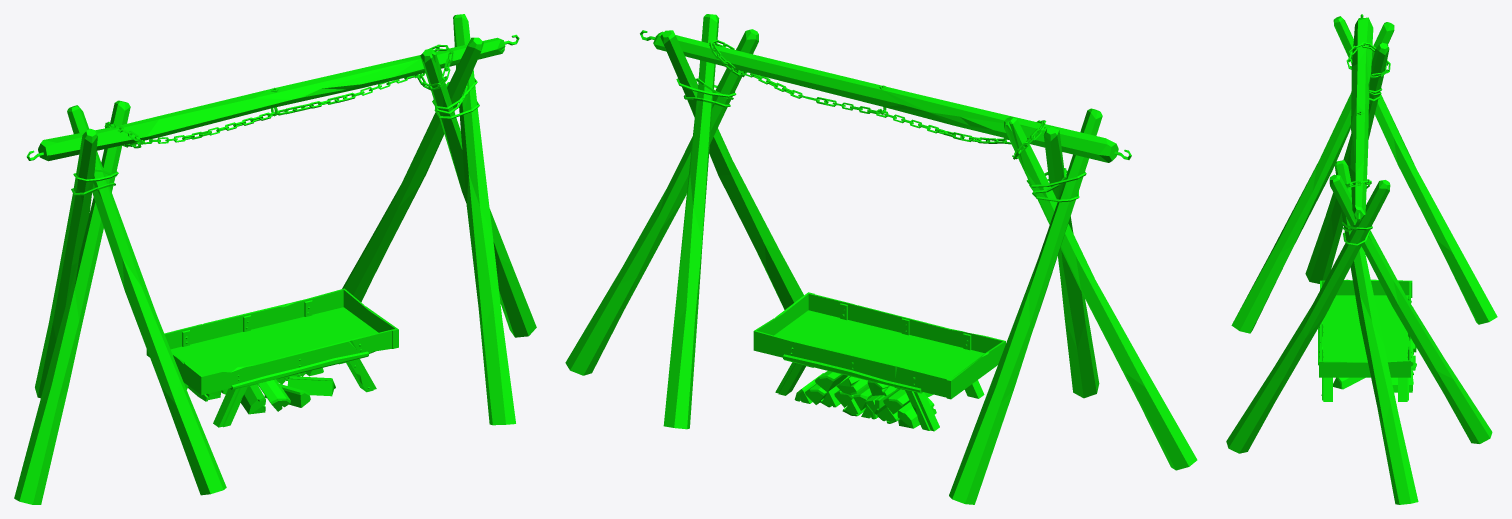
Rendered from SM_Kitchen_Rack_Big_Fantasy.fbx.
The picture shows the model from 3 angles, left to right: view 1: azimuth 30°, elevation 25°; view 2: azimuth 150°, elevation 25°; view 3: azimuth 270°, elevation 25°; orthographic projection. The views are drawn at different scales.
Visible parts, largest first — view 1: kitchen-rack-wood-fantasy, kitchen-rack-fireplace-fantasy; view 2: kitchen-rack-wood-fantasy, kitchen-rack-fireplace-fantasy; view 3: kitchen-rack-wood-fantasy, kitchen-rack-fireplace-fantasy.
Part boxes in pixels (x1,y1,x2,y2): kitchen-rack-wood-fantasy: (14, 14, 536, 504); kitchen-rack-fireplace-fantasy: (146, 288, 398, 427); kitchen-rack-wood-fantasy: (565, 14, 1197, 504); kitchen-rack-fireplace-fantasy: (753, 292, 1005, 431); kitchen-rack-wood-fantasy: (1226, 14, 1497, 504); kitchen-rack-fireplace-fantasy: (1318, 279, 1416, 401).
Bounding box in the file's own units: 3.97 × 2.32 × 1.93.
